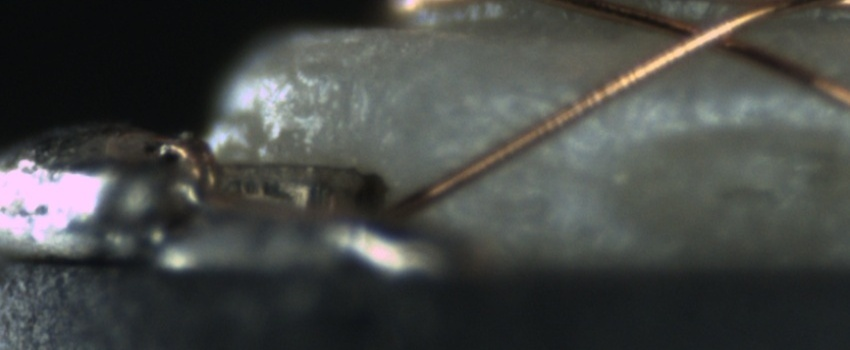CL: (664, 10, 754, 61)
DL: (537, 67, 849, 124)
TE: (146, 128, 224, 199)
